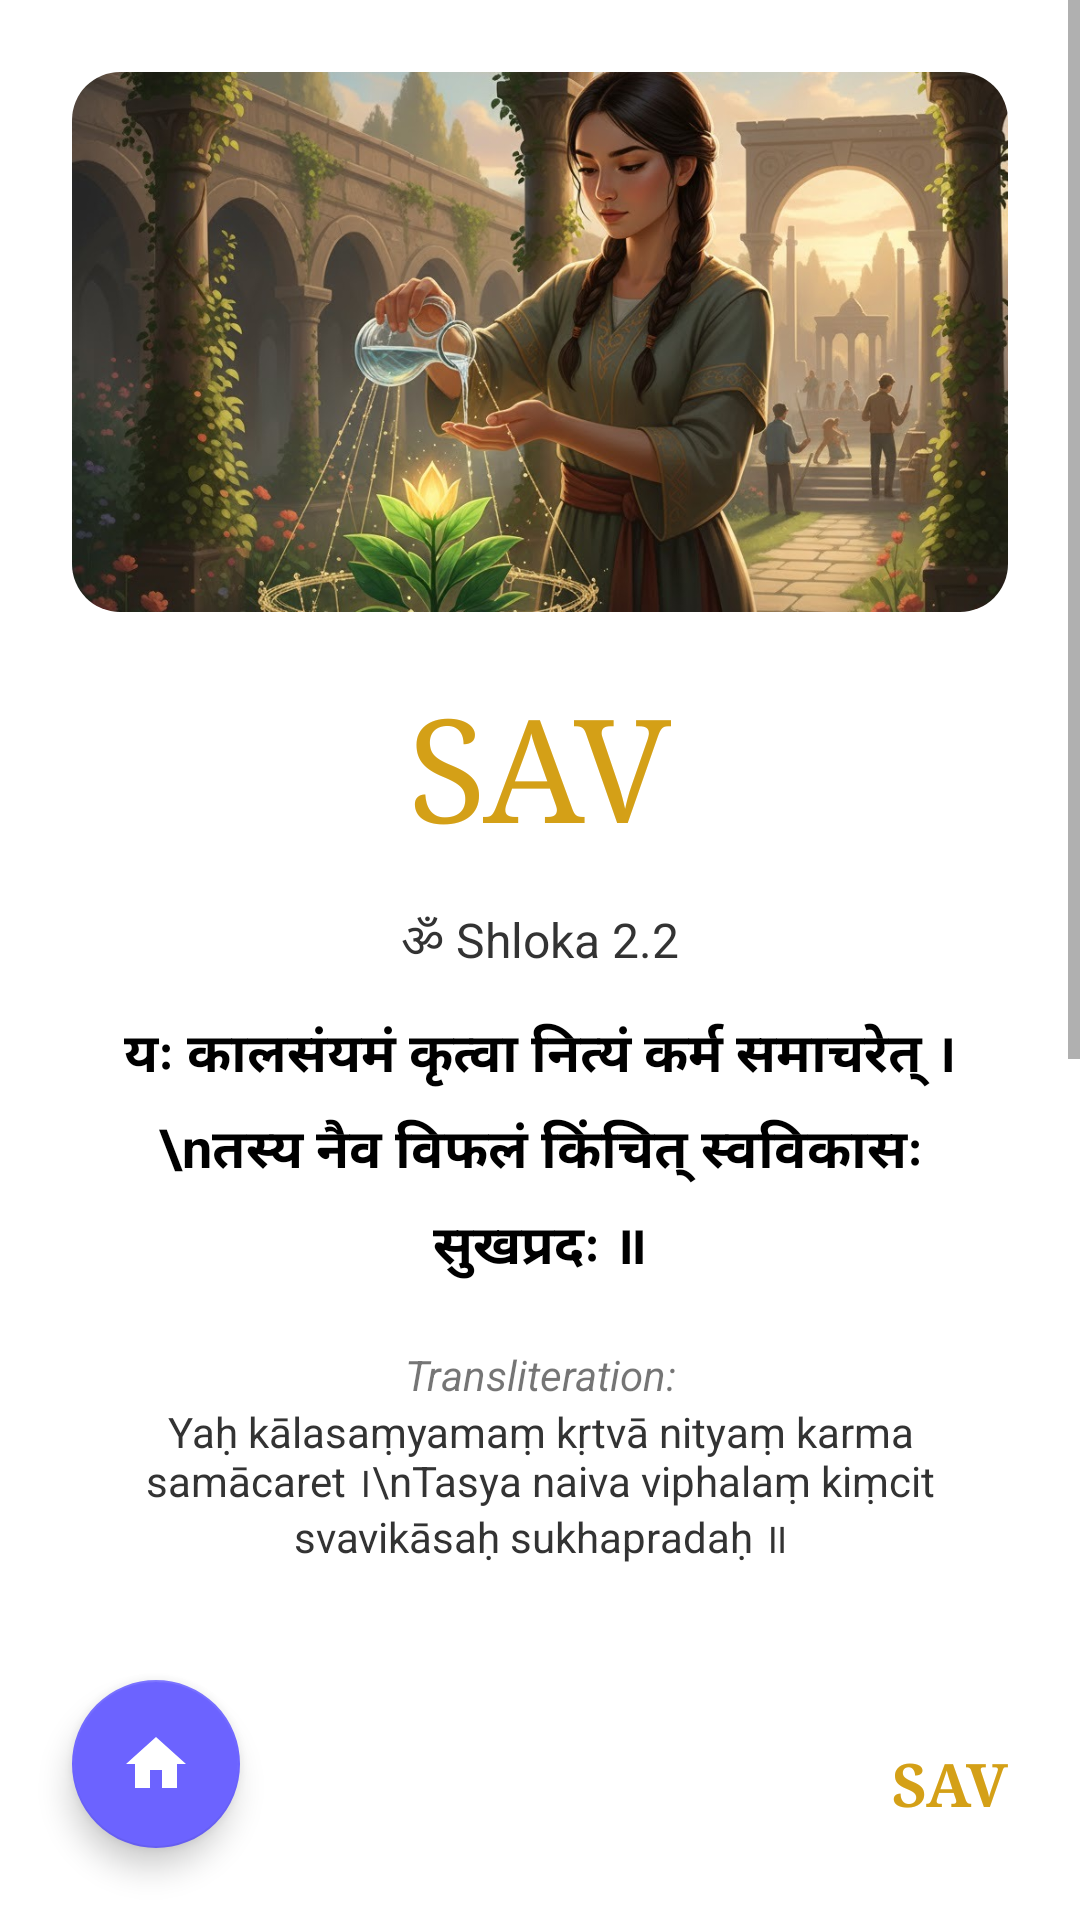

Where to tap for icons on this 1080w x 1920h app screen, as [x,y]:
home: [156,1764]
